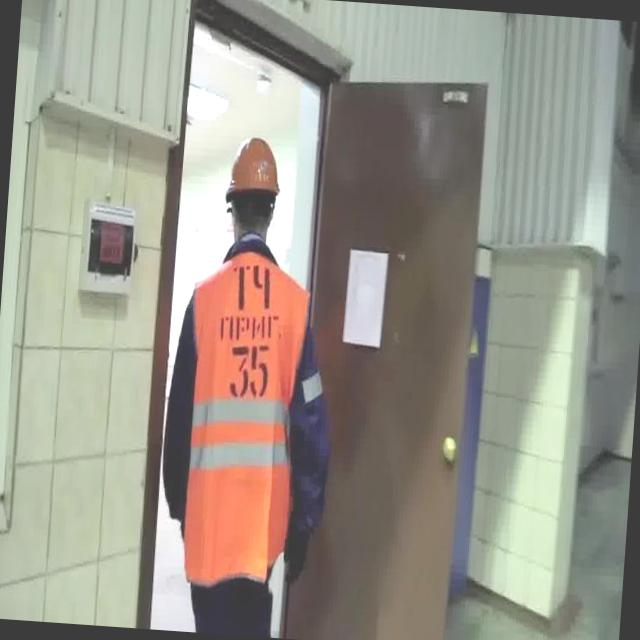vest: (173, 246, 314, 591)
